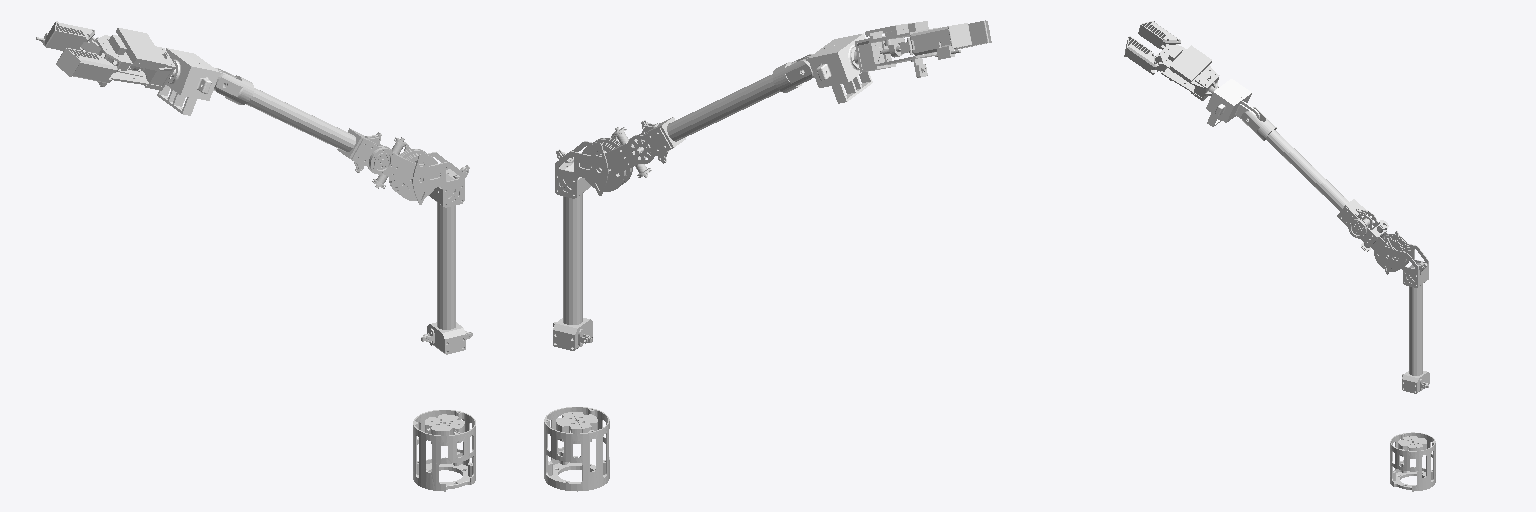
URDF robot description (arm):
<?xml version="1.0" encoding="utf-8"?>
<!-- This URDF was automatically created by SolidWorks to URDF Exporter! Originally created by Stephen Brawner (brawner@gmail.com) 
     Commit Version: 1.6.0-4-g7f85cfe  Build Version: 1.6.7995.38578
     For more information, please see http://wiki.ros.org/sw_urdf_exporter -->
<robot name="arm">
  <!-- Effort and velocity limits below are SIMULATION defaults; replace with measured hardware limits. -->

  <link name="world"/>

<joint name="world_to_base_joint" type="fixed">
  <parent link="world"/>
  <child link="base_mount"/>
  <origin xyz="0 0 0" rpy="0 1.57079632679 0"/>
</joint>


  <link
    name="base_mount">
    <inertial>
      <origin
        xyz="-0.0640838077637683 -0.0038057322819506 3.91387294123116E-06"
        rpy="0 0 0" />
      <mass
        value="0.591574019874226" />
      <inertia
        ixx="0.000870168358145761"
        ixy="-1.17603540908235E-05"
        ixz="8.60284025465383E-09"
        iyy="0.000796476802979171"
        iyz="1.83918798139432E-05"
        izz="0.000704573673874671" />
    </inertial>
    <visual>
      <origin
        xyz="0 0 0"
        rpy="0 0 0" />
      <geometry>
        <mesh
          filename="package://arm/meshes/base_mount.STL" />
      </geometry>
      <material
        name="">
        <color
          rgba="0.894117647058823 0.894117647058823 0.894117647058823 1" />
      </material>
    </visual>
    <collision>
      <origin
        xyz="0 0 0"
        rpy="0 0 0" />
      <geometry>
        <mesh
          filename="package://arm/meshes/base_mount.STL" />
      </geometry>
    </collision>
  </link>
  <link
    name="upper_base">
    <inertial>
      <origin
        xyz="-0.0351205770439988 -0.000869324396949069 -0.000463213442064243"
        rpy="0 0 0" />
      <mass
        value="1.06934512317077" />
      <inertia
        ixx="0.00126945735874959"
        ixy="-4.77017991835072E-08"
        ixz="-7.75746032930936E-09"
        iyy="0.000925128336935432"
        iyz="-3.17105312610118E-08"
        izz="0.000959443396568287" />
    </inertial>
    <visual>
      <origin
        xyz="0 0 0"
        rpy="0 0 0" />
      <geometry>
        <mesh
          filename="package://arm/meshes/upper_base.STL" />
      </geometry>
      <material
        name="">
        <color
          rgba="0.752941176470588 0.752941176470588 0.752941176470588 1" />
      </material>
    </visual>
    <collision>
      <origin
        xyz="0 0 0"
        rpy="0 0 0" />
      <geometry>
        <mesh
          filename="package://arm/meshes/upper_base.STL" />
      </geometry>
    </collision>
  </link>
  <joint
    name="base_mount_to_upper_base"
    type="continuous">
    <origin
      xyz="-0.1535 -0.0041389 -1.6544E-05"
      rpy="-3.1416 0 0" />
    <parent
      link="base_mount" />
    <child
      link="upper_base" />
    <axis
      xyz="-1 0 0" />
    <limit effort="100.0" velocity="1.0"/>
  </joint>
  <link
    name="shoulder">
    <inertial>
      <origin
        xyz="-0.213598241758623 -7.18226217215623E-05 -0.00598898095342152"
        rpy="0 0 0" />
      <mass
        value="0.646937695151705" />
      <inertia
        ixx="0.000372557221562043"
        ixy="6.77959480617512E-08"
        ixz="-6.01708578942344E-05"
        iyy="0.00374766562354693"
        iyz="-2.63835453100087E-07"
        izz="0.00362636474843872" />
    </inertial>
    <visual>
      <origin
        xyz="0 0 0"
        rpy="0 0 0" />
      <geometry>
        <mesh
          filename="package://arm/meshes/shoulder.STL" />
      </geometry>
      <material
        name="">
        <color
          rgba="0.894117647058823 0.894117647058823 0.894117647058823 1" />
      </material>
    </visual>
    <collision>
      <origin
        xyz="0 0 0"
        rpy="0 0 0" />
      <geometry>
        <mesh
          filename="package://arm/meshes/shoulder.STL" />
      </geometry>
    </collision>
  </link>
  <joint
    name="upper_base_to_shoulder"
    type="revolute">
    <origin
      xyz="-0.13603 -0.0035435 -0.0069467"
      rpy="-3.1416 0 0" />
    <parent
      link="upper_base" />
    <child
      link="shoulder" />
    <axis
      xyz="0 1 0" />
    <limit
      lower="-3.141592653589793"
      upper="3.141592653589793"
      effort="100.0"
      velocity="1.0" />
  </joint>
  <link
    name="elbow">
    <inertial>
      <origin
        xyz="0.197873266694039 -2.97138129840002E-05 -0.000433935926540931"
        rpy="0 0 0" />
      <mass
        value="1.07687058787133" />
      <inertia
        ixx="0.000388390698119508"
        ixy="-1.16436945614266E-08"
        ixz="2.82515256598146E-08"
        iyy="0.00390954496101124"
        iyz="9.03773178487238E-06"
        izz="0.00402535053059931" />
    </inertial>
    <visual>
      <origin
        xyz="0 0 0"
        rpy="0 0 0" />
      <geometry>
        <mesh
          filename="package://arm/meshes/elbow.STL" />
      </geometry>
      <material
        name="">
        <color
          rgba="0.894117647058823 0.894117647058823 0.894117647058823 1" />
      </material>
    </visual>
    <collision>
      <origin
        xyz="0 0 0"
        rpy="0 0 0" />
      <geometry>
        <mesh
          filename="package://arm/meshes/elbow.STL" />
      </geometry>
    </collision>
  </link>
  <joint
    name="shoulder_to_elbow"
    type="revolute">
    <origin
      xyz="-0.3975 8.75E-05 -0.075"
      rpy="1.6479 0.96516 -3.1416" />
    <parent
      link="shoulder" />
    <child
      link="elbow" />
    <axis
      xyz="0 0.076985 0.99703" />
    <limit
      lower="-3.141592653589793"
      upper="3.141592653589793"
      effort="100.0"
      velocity="1.0" />
  </joint>
  <link
    name="wrist">
    <inertial>
      <origin
        xyz="0.0623577450685286 -0.00463111545355455 0.00565910082209016"
        rpy="0 0 0" />
      <mass
        value="0.417792488776294" />
      <inertia
        ixx="0.00073448460150239"
        ixy="-2.24237238449348E-05"
        ixz="1.21888691789165E-06"
        iyy="0.000584065073359585"
        iyz="-1.11856441402096E-05"
        izz="0.000376328425551866" />
    </inertial>
    <visual>
      <origin
        xyz="0 0 0"
        rpy="0 0 0" />
      <geometry>
        <mesh
          filename="package://arm/meshes/wrist.STL" />
      </geometry>
      <material
        name="">
        <color
          rgba="1 1 1 1" />
      </material>
    </visual>
    <collision>
      <origin
        xyz="0 0 0"
        rpy="0 0 0" />
      <geometry>
        <mesh
          filename="package://arm/meshes/wrist.STL" />
      </geometry>
    </collision>
  </link>
  <joint
    name="elbow_to_wrist"
    type="revolute">
    <origin
      xyz="0.5631 -0.0029494 -0.0053488"
      rpy="-0.022047 -0.015286 -0.1993" />
    <parent
      link="elbow" />
    <child
      link="wrist" />
    <axis
      xyz="0 0.05346 0.99857" />
    <limit
      lower="-3.141592653589793"
      upper="3.141592653589793"
      effort="100.0"
      velocity="1.0" />
  </joint>
  <link
    name="claw">
    <inertial>
      <origin
        xyz="0.0901040852069357 0.00621618026954973 -0.00249760882473078"
        rpy="0 0 0" />
      <mass
        value="0.39113278296521" />
      <inertia
        ixx="0.00019195597732978"
        ixy="-2.05720408478896E-07"
        ixz="-1.31495391312807E-06"
        iyy="0.000419942398260722"
        iyz="-3.47747724282152E-05"
        izz="0.000337893728576509" />
    </inertial>
    <visual>
      <origin
        xyz="0 0 0"
        rpy="0 0 0" />
      <geometry>
        <mesh
          filename="package://arm/meshes/claw.STL" />
      </geometry>
      <material
        name="">
        <color
          rgba="0.894117647058823 0.894117647058823 0.894117647058823 1" />
      </material>
    </visual>
    <collision>
      <origin
        xyz="0 0 0"
        rpy="0 0 0" />
      <geometry>
        <mesh
          filename="package://arm/meshes/claw.STL" />
      </geometry>
    </collision>
  </link>
  <joint
    name="wrist_to_claw"
    type="continuous">
    <origin
      xyz="0.11356 0.00026343 0.0055378"
      rpy="0 0 0" />
    <parent
      link="wrist" />
    <child
      link="claw" />
    <axis
      xyz="1 0 0" />
    <limit effort="100.0" velocity="1.0"/>
  </joint>
  <link
    name="claw_camera">
    <inertial>
      <origin
        xyz="-0.00551708414746765 1.11022302462516E-16 5.55111512312578E-17"
        rpy="0 0 0" />
      <mass
        value="0.00417349427012737" />
      <inertia
        ixx="3.83423125360445E-07"
        ixy="-2.85377311330795E-22"
        ixz="1.19114008207636E-22"
        iyy="2.13784771723874E-07"
        iyz="-5.55865371635635E-22"
        izz="2.13025771723873E-07" />
    </inertial>
    <visual>
      <origin
        xyz="0 0 0"
        rpy="0 0 0" />
      <geometry>
        <mesh
          filename="package://arm/meshes/claw_camera.STL" />
      </geometry>
      <material
        name="">
        <color
          rgba="0.894117647058823 0.894117647058823 0.894117647058823 1" />
      </material>
    </visual>
    <collision>
      <origin
        xyz="0 0 0"
        rpy="0 0 0" />
      <geometry>
        <mesh
          filename="package://arm/meshes/claw_camera.STL" />
      </geometry>
    </collision>
  </link>
  <joint
    name="claw_to_camera"
    type="fixed">
    <origin
      xyz="0.14513 -0.047004 0.017283"
      rpy="2.7912 0 0" />
    <parent
      link="claw" />
    <child
      link="claw_camera" />
    <axis
      xyz="0 0 0" />
  </joint>
  <link
    name="left_gripper">
    <inertial>
      <origin
        xyz="-0.0217179274028694 -0.000297928918946644 -0.0591897920458837"
        rpy="0 0 0" />
      <mass
        value="0.104495072975078" />
      <inertia
        ixx="7.77007752445732E-05"
        ixy="-4.23623010446303E-07"
        ixz="3.96319090031728E-06"
        iyy="6.88965230454185E-05"
        iyz="1.0714885871022E-06"
        izz="2.51564843400612E-05" />
    </inertial>
    <visual>
      <origin
        xyz="0 0 0"
        rpy="0 0 0" />
      <geometry>
        <mesh
          filename="package://arm/meshes/left_gripper.STL" />
      </geometry>
      <material
        name="">
        <color
          rgba="0.894117647058823 0.894117647058823 0.894117647058823 1" />
      </material>
    </visual>
    <collision>
      <origin
        xyz="0 0 0"
        rpy="0 0 0" />
      <geometry>
        <mesh
          filename="package://arm/meshes/left_gripper.STL" />
      </geometry>
    </collision>
  </link>
  <joint
    name="claw_to_left_grip"
    type="prismatic">
    <origin
      xyz="0.28747 0.0096667 0.026221"
      rpy="-1.5704 1.2205 -1.5704" />
    <parent
      link="claw" />
    <child
      link="left_gripper" />
    <axis
      xyz="0.64434 0 0.76474" />
    <limit
      lower="0"
      upper="0.05"
      effort="40.0"
      velocity="0.02" />
  </joint>
  <link
    name="solenoid">
    <inertial>
      <origin
        xyz="-0.0339324825192029 3.73631118277817E-05 -5.55111512312578E-17"
        rpy="0 0 0" />
      <mass
        value="0.0079458185156458" />
      <inertia
        ixx="2.8956853004622E-07"
        ixy="3.16925129611391E-10"
        ixz="-1.69646003293857E-09"
        iyy="1.12773832626975E-06"
        iyz="2.38228016415272E-22"
        izz="1.18165470220663E-06" />
    </inertial>
    <visual>
      <origin
        xyz="0 0 0"
        rpy="0 0 0" />
      <geometry>
        <mesh
          filename="package://arm/meshes/solenoid.STL" />
      </geometry>
      <material
        name="">
        <color
          rgba="0.894117647058823 0.894117647058823 0.894117647058823 1" />
      </material>
    </visual>
    <collision>
      <origin
        xyz="0 0 0"
        rpy="0 0 0" />
      <geometry>
        <mesh
          filename="package://arm/meshes/solenoid.STL" />
      </geometry>
    </collision>
  </link>
  <joint
    name="grip_to_solenoid"
    type="prismatic">
    <origin
      xyz="-0.039072 -0.03021 -0.002032"
      rpy="0 -1.5708 0" />
    <parent
      link="left_gripper" />
    <child
      link="solenoid" />
    <axis
      xyz="1 0 0" />
    <limit
      lower="0"
      upper="0.015"
      effort="20.0"
      velocity="0.05" />
  </joint>
  <link
    name="right_gripper">
    <inertial>
      <origin
        xyz="-0.0214327311762764 3.60367735652289E-10 -0.0595433233424318"
        rpy="0 0 0" />
      <mass
        value="0.102960588235202" />
      <inertia
        ixx="7.50602919399732E-05"
        ixy="-5.89954698794796E-13"
        ixz="3.21072860994957E-06"
        iyy="6.65407745872245E-05"
        iyz="-2.04695050332603E-12"
        izz="2.42336642646434E-05" />
    </inertial>
    <visual>
      <origin
        xyz="0 0 0"
        rpy="0 0 0" />
      <geometry>
        <mesh
          filename="package://arm/meshes/right_gripper.STL" />
      </geometry>
      <material
        name="">
        <color
          rgba="0.894117647058823 0.894117647058823 0.894117647058823 1" />
      </material>
    </visual>
    <collision>
      <origin
        xyz="0 0 0"
        rpy="0 0 0" />
      <geometry>
        <mesh
          filename="package://arm/meshes/right_gripper.STL" />
      </geometry>
    </collision>
  </link>
  <joint
    name="claw_to_right_grip"
    type="prismatic">
    <origin
      xyz="0.28747 -0.0096628 -0.02621"
      rpy="1.5709 -1.2205 1.5707" />
    <parent
      link="claw" />
    <child
      link="right_gripper" />
    <axis
      xyz="0.63991 0 0.76845" />
    <limit
      lower="0"
      upper="0.05"
      effort="40.0"
      velocity="0.02" />
  </joint>
</robot>

--- Facts derived from the render (not from the file) ---
Views: 3 orthographic renders of the robot side by side, from view 1: azimuth 30°, elevation 25°; view 2: azimuth 150°, elevation 25°; view 3: azimuth 330°, elevation 25°.
Robot: arm — 11 links, 10 joints (3 revolute, 2 continuous, 3 prismatic, 2 fixed); root link world; default pose: every joint at zero.
Visible links, largest first — view 1: elbow, shoulder, base_mount, claw, wrist, right_gripper, left_gripper; view 2: elbow, shoulder, base_mount, wrist, claw, left_gripper; view 3: elbow, shoulder, claw, base_mount, wrist, right_gripper, left_gripper.
Link boxes in pixels (<box>): elbow: <box>214,68,439,200</box>; shoulder: <box>404,145,472,354</box>; base_mount: <box>413,410,475,491</box>; claw: <box>81,28,175,90</box>; wrist: <box>157,48,225,115</box>; right_gripper: <box>56,48,117,82</box>; left_gripper: <box>45,21,94,50</box>; elbow: <box>580,54,813,191</box>; shoulder: <box>553,135,617,350</box>; base_mount: <box>544,407,609,491</box>; wrist: <box>803,33,872,103</box>; claw: <box>855,21,940,77</box>; left_gripper: <box>910,23,971,55</box>; elbow: <box>1241,107,1410,271</box>; shoulder: <box>1381,231,1429,393</box>; claw: <box>1152,44,1219,100</box>; base_mount: <box>1390,432,1435,491</box>; wrist: <box>1206,79,1259,126</box>; right_gripper: <box>1124,36,1156,74</box>; left_gripper: <box>1138,21,1180,49</box>.
Size in the robot's own frame: 0.9764 by 0.1519 by 1.19 metres.
9 mesh visuals loaded from 10 distinct referenced files (9 binary STL); not drawn: 1 (reference not matched to a file when rendering).
